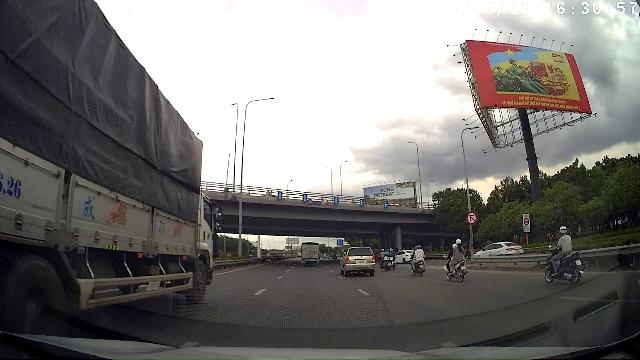123b-cam-re-phai: (466, 211, 478, 225)
